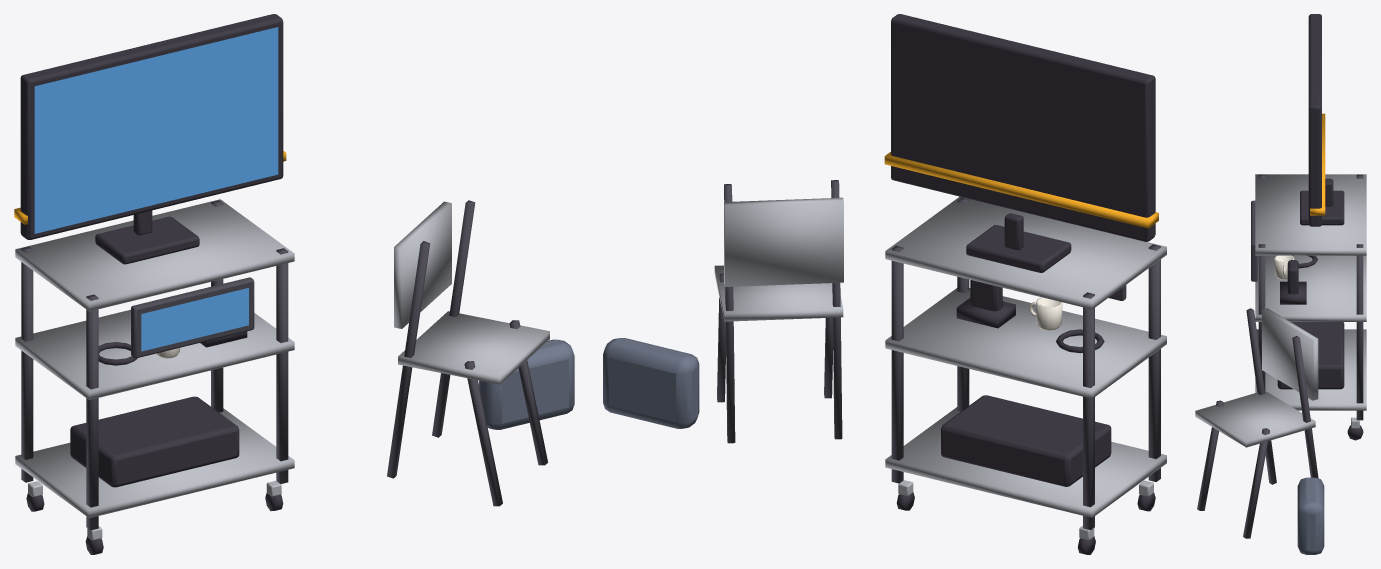
Rendered from noc_l1.glb.
The picture shows the model from 3 angles, left to right: view 1: azimuth 30°, elevation 25°; view 2: azimuth 150°, elevation 25°; view 3: azimuth 270°, elevation 25°; orthographic projection. The views are drawn at different scales.
Visible parts, largest first — view 1: noc_l1, noc_wall0_screen, noc_sign_screen; view 2: noc_l1; view 3: noc_l1.
Boxes of the visible parts, x1,y1,x2,y2 form: noc_l1: (14, 14, 574, 554); noc_wall0_screen: (34, 27, 278, 233); noc_sign_screen: (141, 288, 248, 351); noc_l1: (603, 14, 1166, 554); noc_l1: (1195, 14, 1366, 554).
Size of the model in its own units: 2.13 by 1.75 by 0.7704.
